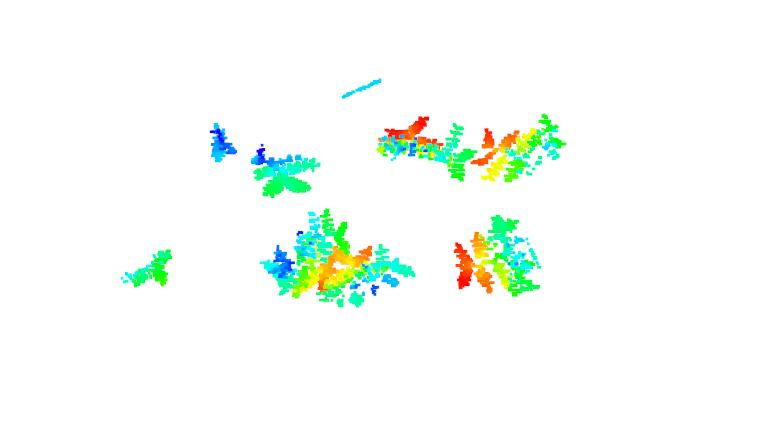chickpea: (441, 213, 547, 302), (257, 211, 357, 302), (376, 111, 478, 180), (471, 119, 572, 182), (346, 235, 421, 307), (246, 142, 321, 201), (116, 242, 184, 293), (206, 119, 239, 165)
